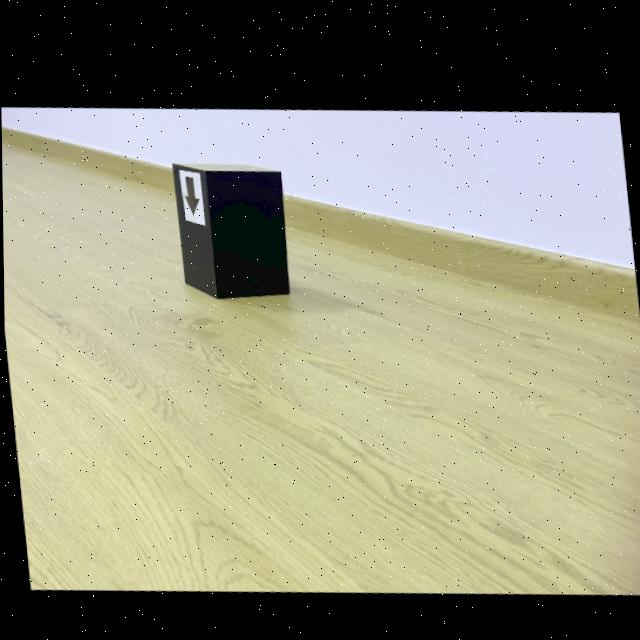DOWN: (184, 172, 200, 213)
